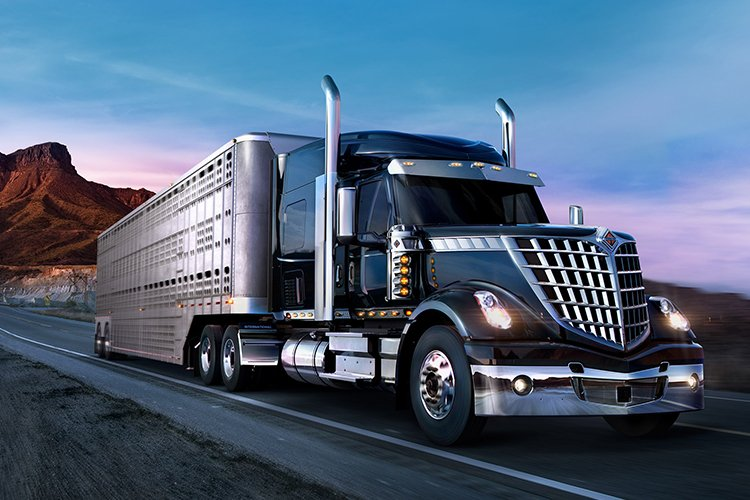Truck: (98, 140, 713, 448)
